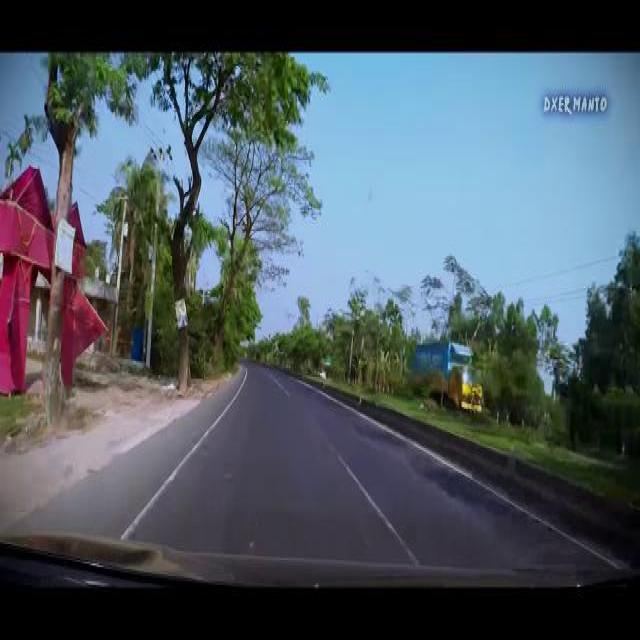truck: (412, 340, 482, 418)
